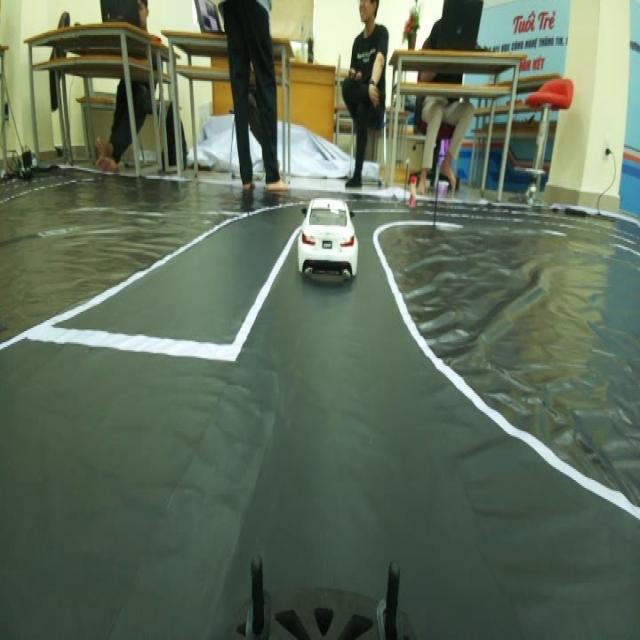car: (299, 184, 361, 284)
